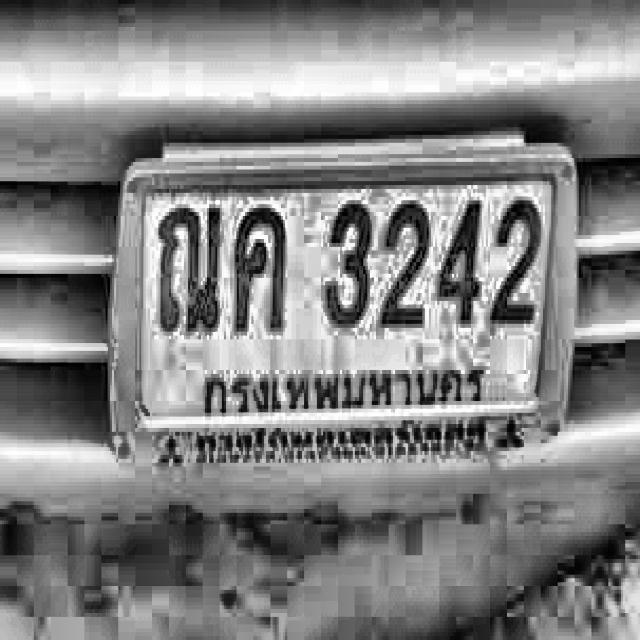license-plate: (91, 110, 586, 496)
